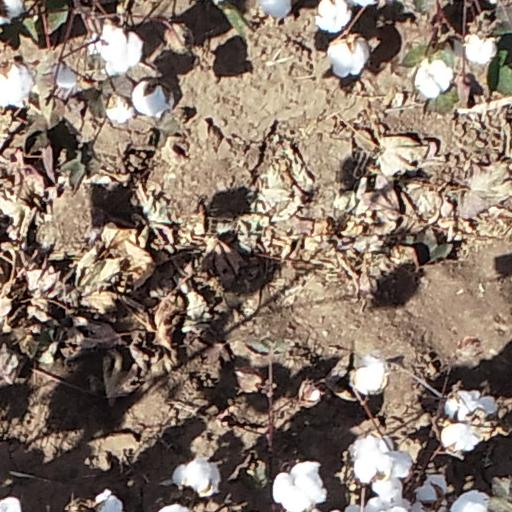Boll: (270, 460, 328, 511), (353, 434, 409, 479), (94, 24, 142, 74), (325, 37, 372, 77), (414, 57, 454, 99), (132, 78, 175, 116), (1, 65, 37, 108), (174, 460, 218, 495), (445, 391, 498, 420), (351, 358, 385, 395), (316, 1, 353, 32), (441, 423, 480, 451), (464, 35, 498, 67), (373, 481, 406, 512), (104, 95, 137, 123), (384, 448, 412, 480), (450, 490, 490, 512), (417, 477, 445, 504), (56, 64, 83, 91), (1, 1, 25, 27), (263, 1, 292, 21), (97, 494, 120, 512), (157, 503, 191, 512), (1, 497, 22, 510)
